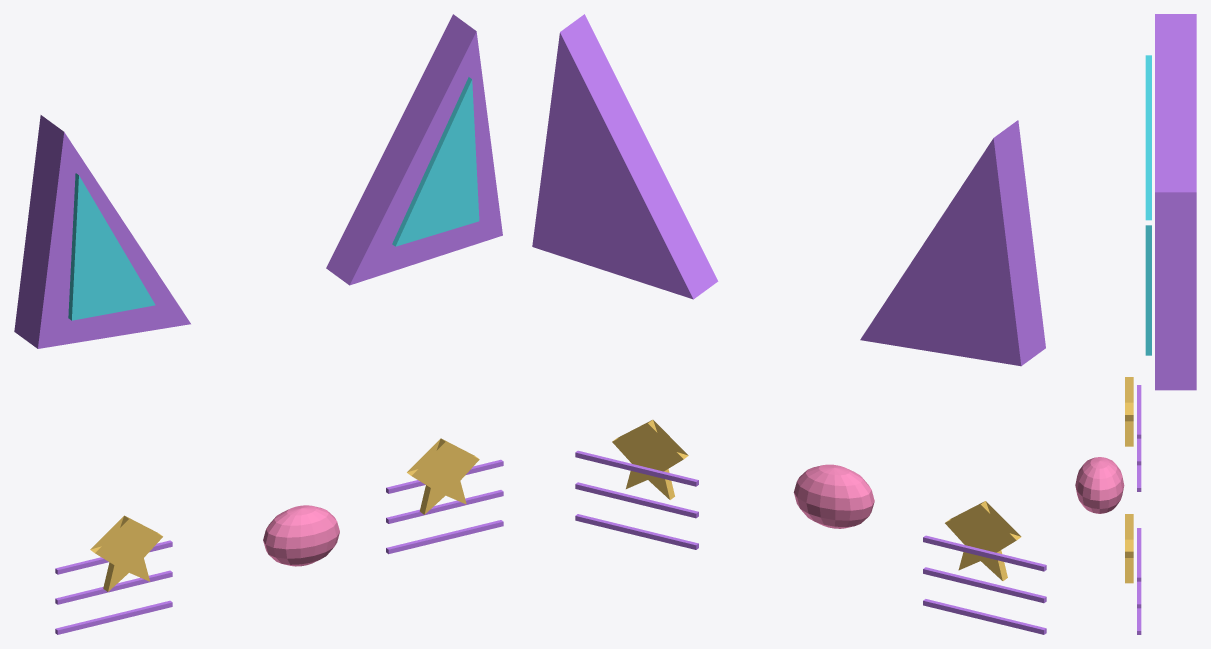
Rendered from anime-cat.glb.
3 renders of one model, left to right at view 1: azimuth 30°, elevation 25°; view 2: azimuth 150°, elevation 25°; view 3: azimuth 270°, elevation 25°, orthographic. The views are drawn at different scales.
Parts seen in each view (by area): view 1: anime ear (×2), anime ear inner (×2), cat cheek star (×2), nose, whisker (×4); view 2: anime ear (×2), whisker (×6), cat cheek star (×2), nose; view 3: anime ear (×2), nose, anime ear inner (×2), cat cheek star (×2), whisker (×2).
Boxes of the visible parts, x1,y1,x2,y2 form: anime ear (×2): [14, 14, 502, 348]; anime ear inner (×2): [68, 77, 479, 320]; cat cheek star (×2): [90, 438, 479, 591]; nose: [263, 505, 339, 566]; whisker (×4): [55, 490, 503, 634]; anime ear (×2): [532, 14, 1045, 366]; whisker (×6): [575, 450, 1046, 634]; cat cheek star (×2): [612, 419, 1021, 580]; nose: [793, 464, 874, 528]; anime ear (×2): [1155, 14, 1196, 390]; nose: [1075, 457, 1124, 513]; anime ear inner (×2): [1145, 55, 1151, 355]; cat cheek star (×2): [1125, 377, 1133, 583]; whisker (×2): [1137, 385, 1141, 581].
Size of the model in its own units: 1.94 by 1.96 by 0.495.
